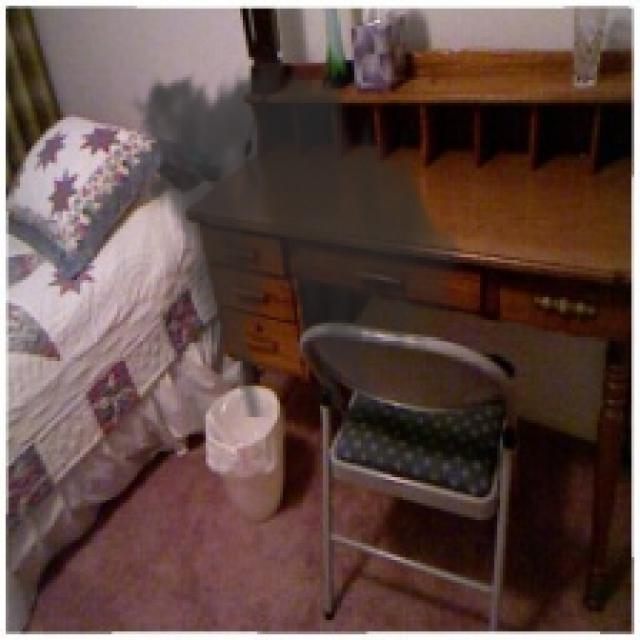smoke: (123, 43, 471, 417)
